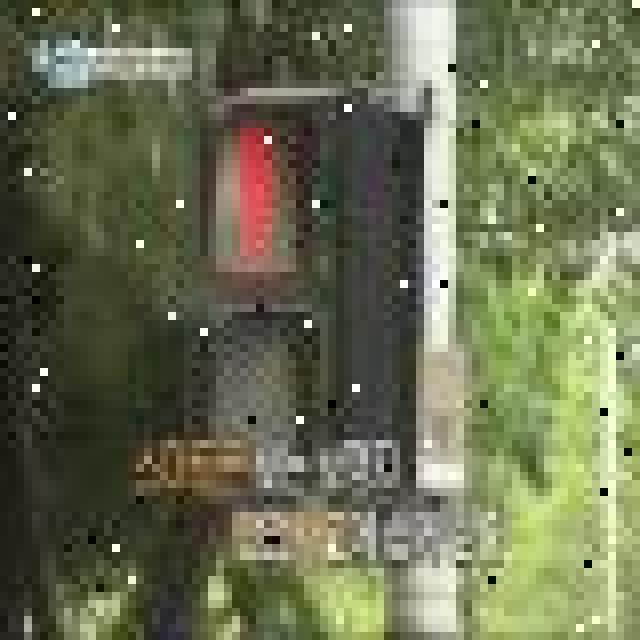redlight: (196, 91, 326, 502)
